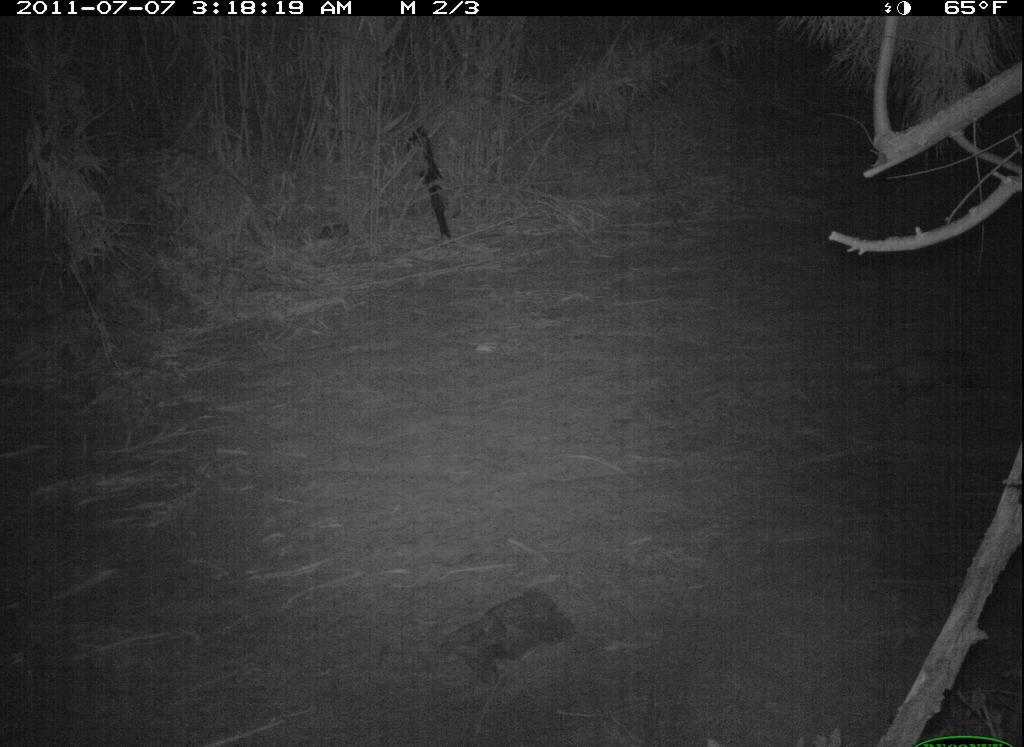opossum: (827, 331, 993, 415)
